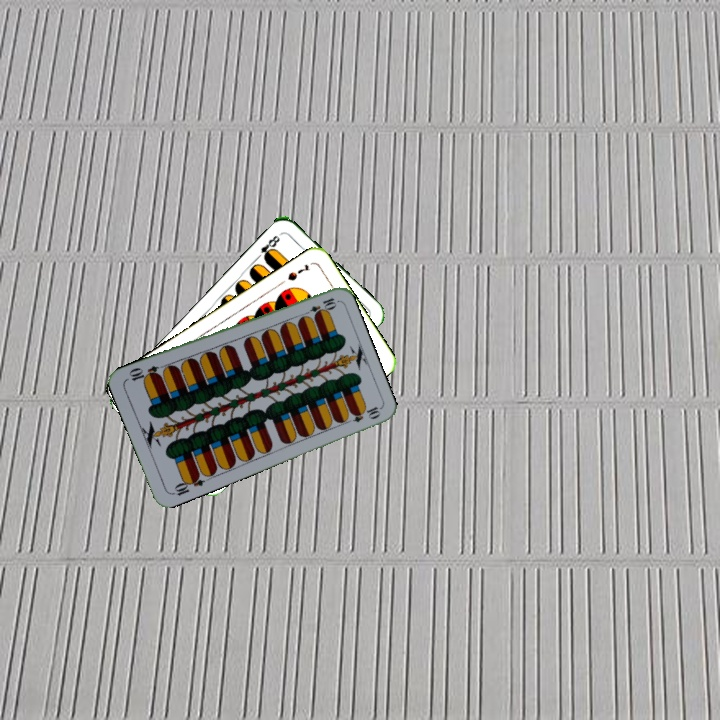E10: (168, 470, 207, 498), (299, 294, 339, 319)
E8: (252, 231, 283, 263)
S7: (284, 260, 313, 283)
